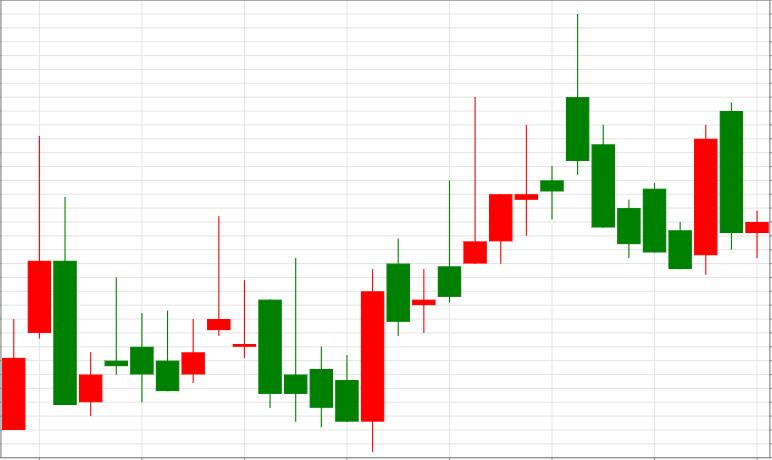bullish_engulfing_rise: (207, 216, 384, 452), (566, 13, 718, 275)
